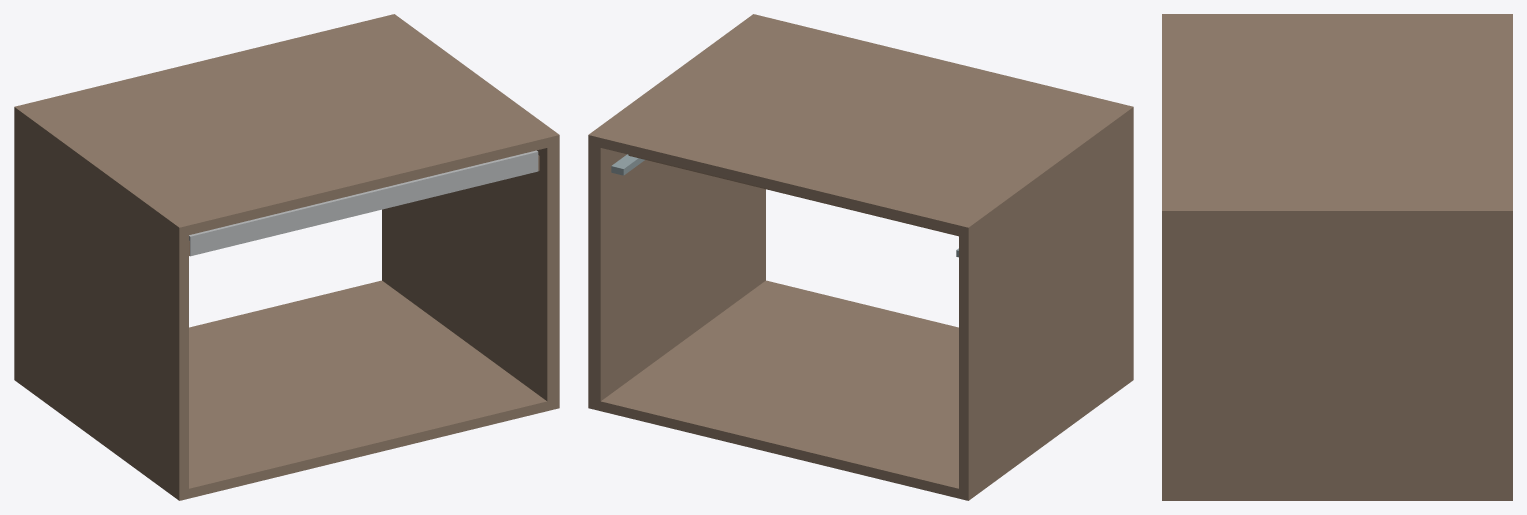
Rendered from mechanism-stowed.glb.
3 renders of one model, left to right at view 1: azimuth 30°, elevation 25°; view 2: azimuth 150°, elevation 25°; view 3: azimuth 270°, elevation 25°, orthographic. The views are drawn at different scales.
Parts seen in each view (by area): view 1: Roof, Sill, Left-cheek, Right-cheek, Edge-pull; view 2: Roof, Sill, Left-cheek, Right-cheek; view 3: Right-cheek, Roof, Sill.
Boxes of the visible parts, x1,y1,x2,y2 form: Roof: (14,14,559,237); Sill: (14,280,559,500); Left-cheek: (14,117,188,490); Right-cheek: (382,145,559,401); Edge-pull: (189,150,538,256); Roof: (588,14,1133,237); Sill: (588,280,1133,500); Left-cheek: (959,117,1133,490); Right-cheek: (588,145,765,401); Right-cheek: (1162,221,1512,490); Roof: (1162,14,1512,221); Sill: (1162,490,1512,500).
Size of the model in its own units: 0.485 by 0.333 by 0.365.
